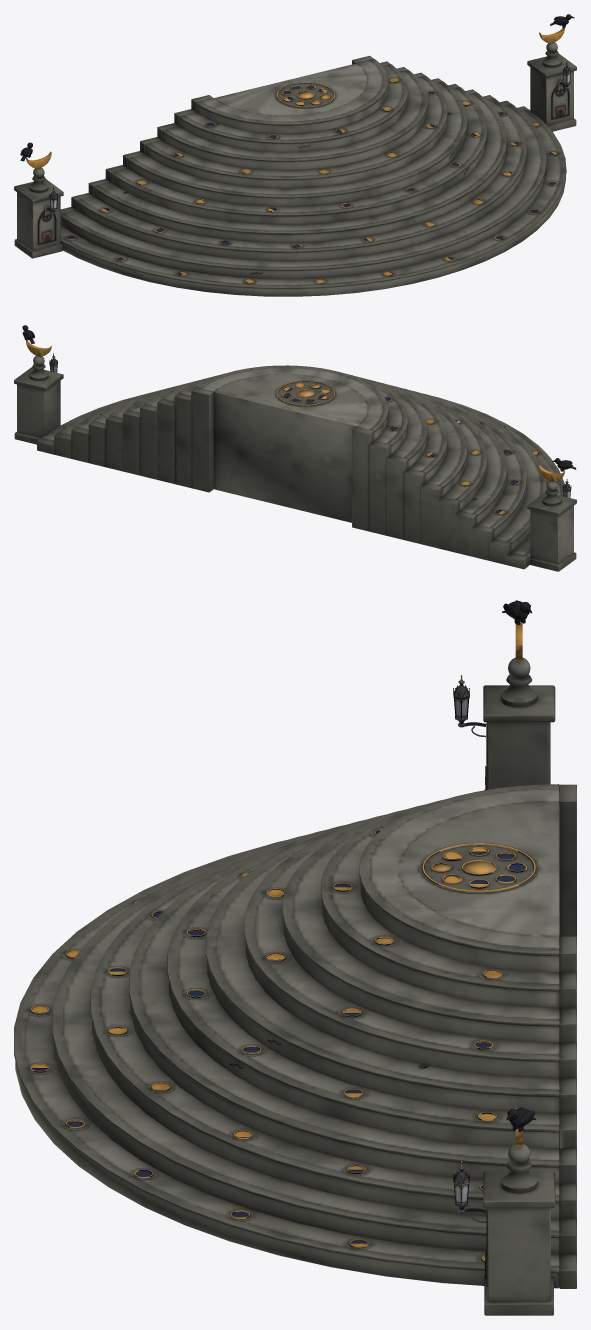
The model's file is EntranceHalfRoundMoon.fbx.
3 views of the same model, one above another, from view 1: azimuth 30°, elevation 25°; view 2: azimuth 150°, elevation 25°; view 3: azimuth 270°, elevation 25° (orthographic). The views are drawn at different scales.
Parts seen in each view (by area): view 1: EntranceHalfRoundMoon_Main, EntranceHalfRoundMoon_Noses, EntranceHalfRoundMoon_Newels, EntranceHalfRoundMoon_Inlays; view 2: EntranceHalfRoundMoon_Main, EntranceHalfRoundMoon_Noses, EntranceHalfRoundMoon_Newels, EntranceHalfRoundMoon_Inlays; view 3: EntranceHalfRoundMoon_Main, EntranceHalfRoundMoon_Noses, EntranceHalfRoundMoon_Newels, EntranceHalfRoundMoon_Inlays.
Part boxes in pixels (<box>): EntranceHalfRoundMoon_Main: <box>60,55,565,296</box>; EntranceHalfRoundMoon_Noses: <box>60,59,566,288</box>; EntranceHalfRoundMoon_Newels: <box>14,14,576,258</box>; EntranceHalfRoundMoon_Inlays: <box>64,77,559,284</box>; EntranceHalfRoundMoon_Main: <box>37,367,560,569</box>; EntranceHalfRoundMoon_Noses: <box>41,365,564,557</box>; EntranceHalfRoundMoon_Newels: <box>14,325,576,571</box>; EntranceHalfRoundMoon_Inlays: <box>64,391,559,542</box>; EntranceHalfRoundMoon_Main: <box>15,784,576,1288</box>; EntranceHalfRoundMoon_Noses: <box>14,784,559,1273</box>; EntranceHalfRoundMoon_Newels: <box>453,600,555,1315</box>; EntranceHalfRoundMoon_Inlays: <box>28,828,506,1264</box>.
Bounding box in the file's own units: 3554 × 653 × 1612.
